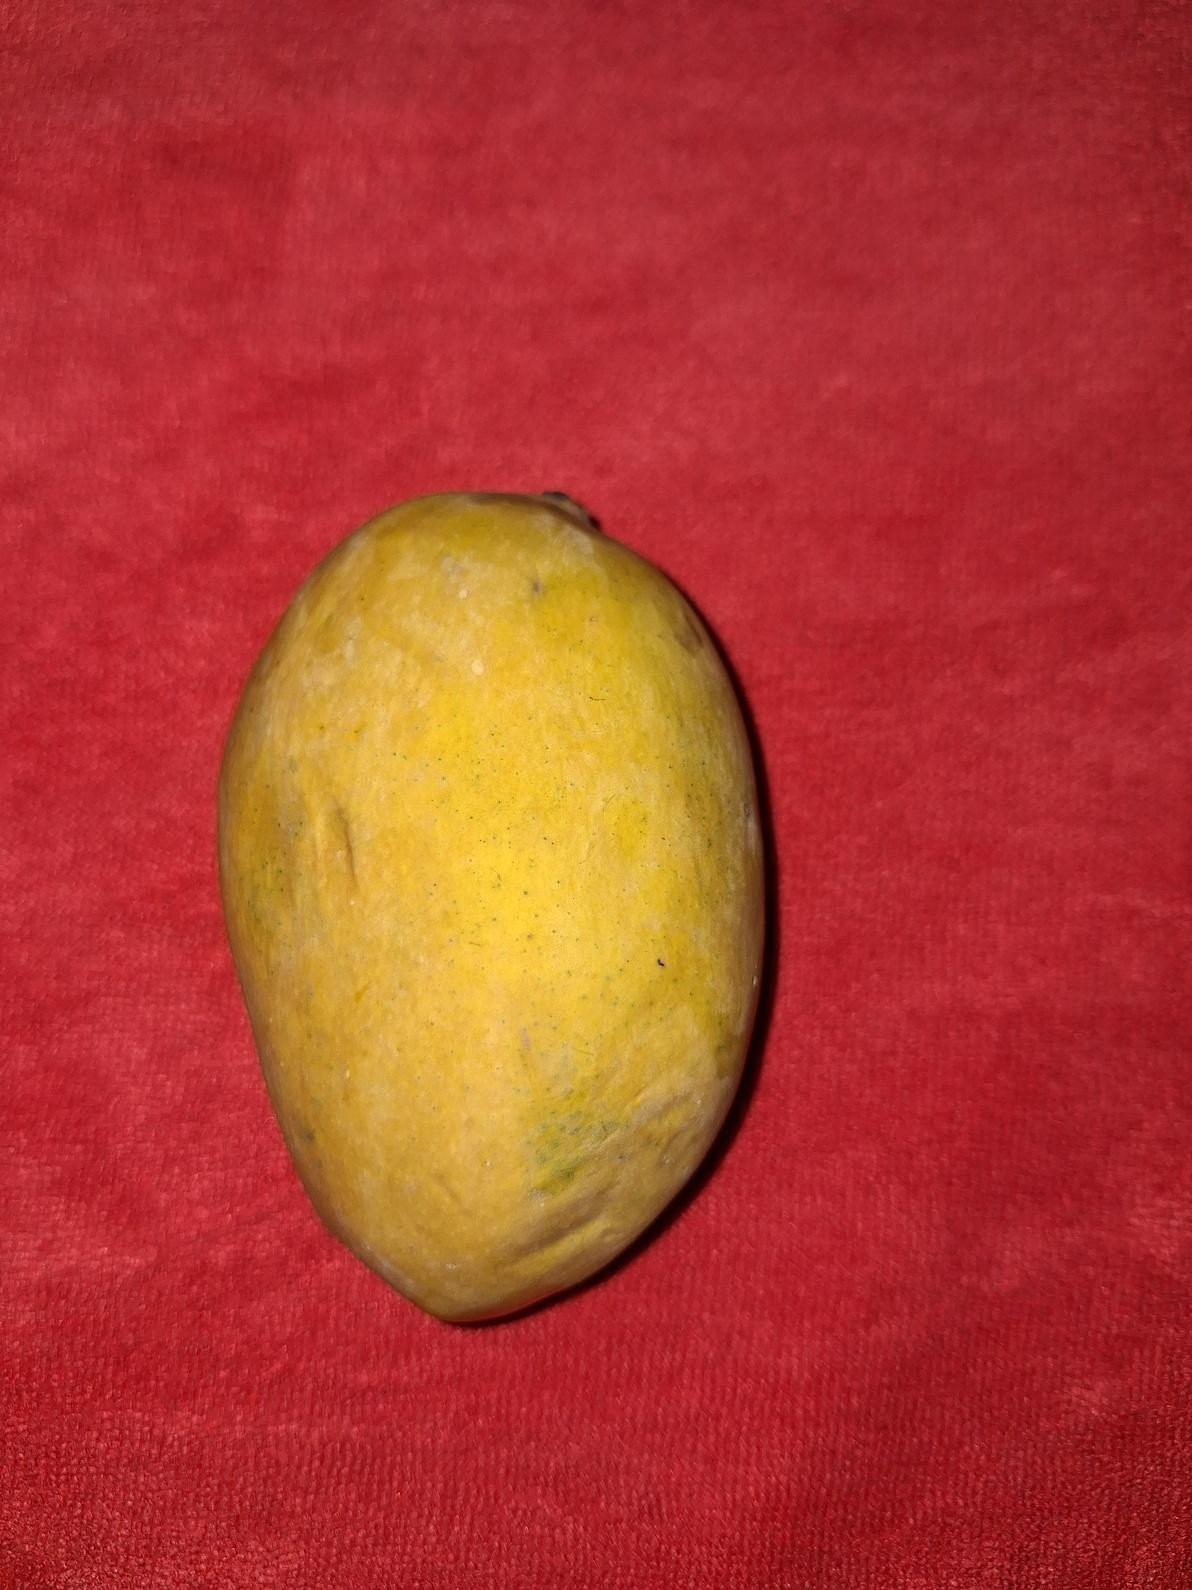mango: (214, 486, 768, 1325)
